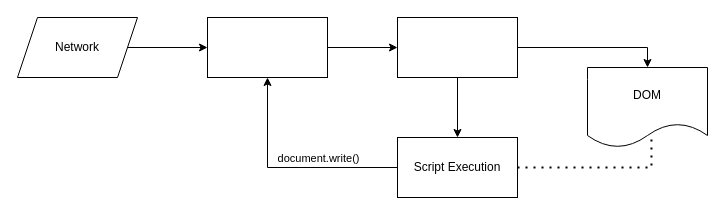
This 725x215 diagram has some shape labels left out. Here are the shapes that lost their labels. From the top down, the centre of each, then its label:
(267,47): Tokenizer
(457,47): Tree Construction
